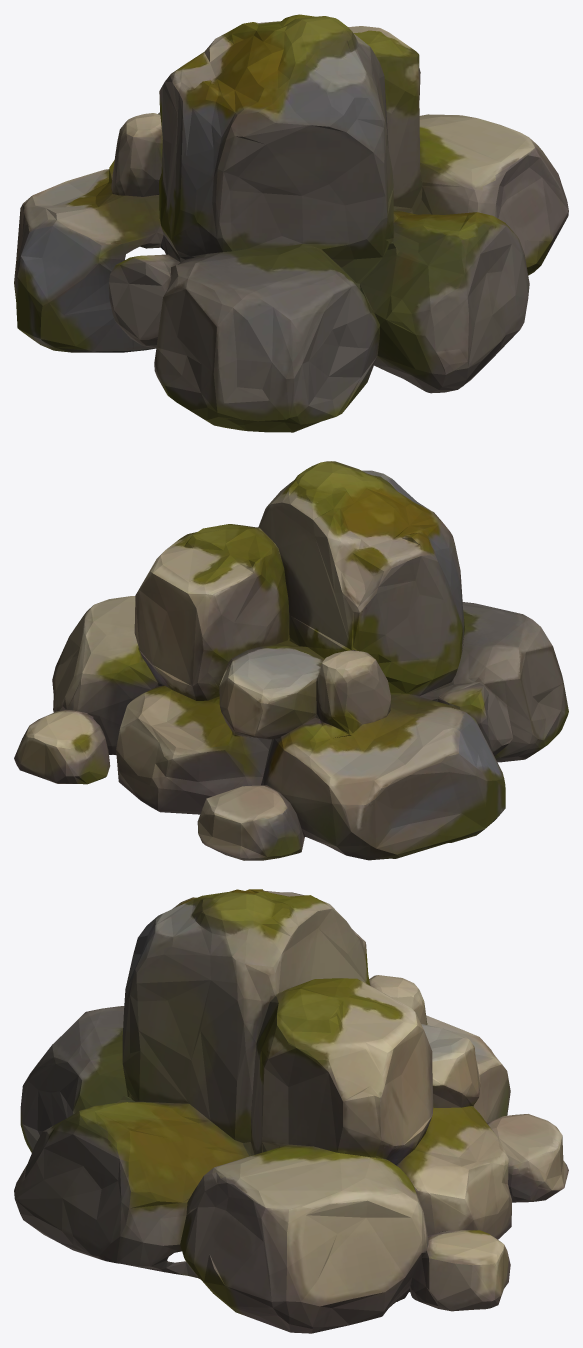
File: stone.glb
The picture shows the model from 3 angles, top to bottom: view 1: azimuth 30°, elevation 25°; view 2: azimuth 150°, elevation 25°; view 3: azimuth 270°, elevation 25°; orthographic projection. The views are drawn at different scales.
Visible parts, largest first — view 1: world; view 2: world; view 3: world.
Part boxes in pixels (left/top/right/bottom): world: left=14, top=14, right=568, bottom=432; world: left=14, top=461, right=568, bottom=860; world: left=14, top=889, right=568, bottom=1333.
Size of the model in its own units: 0.9986 by 0.5741 by 0.9201.
1 material, 1 textured.
